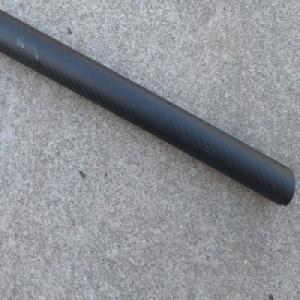LuggagePart: (0, 9, 296, 207)
